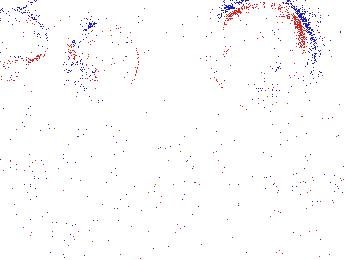moon jellyfish: (206, 3, 317, 108), (79, 21, 140, 100), (1, 10, 50, 66)
